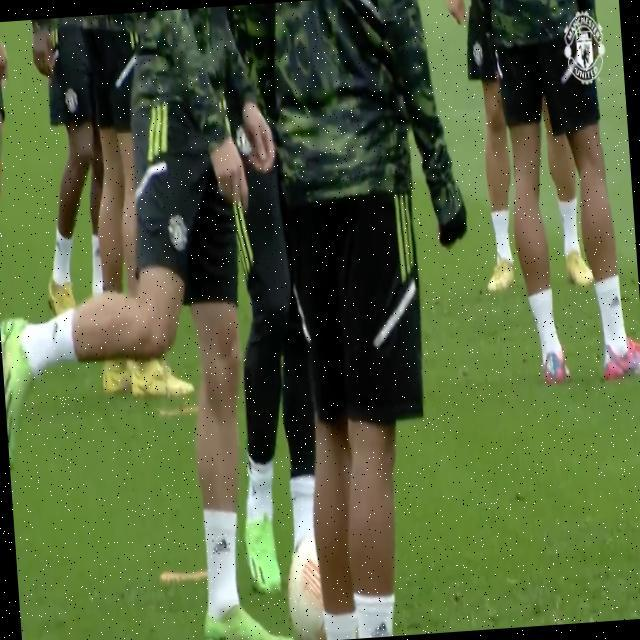Adidas: (369, 614, 392, 637), (212, 533, 231, 554), (606, 291, 622, 310)
